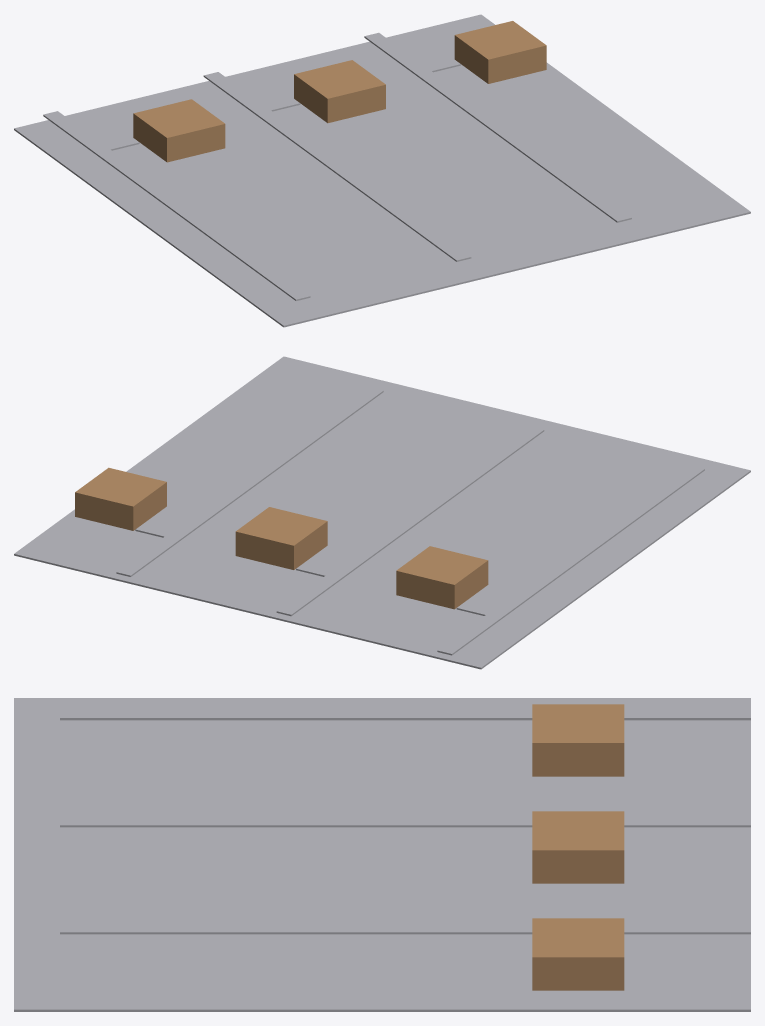
The model's file is city_c03_03.glb.
The picture shows the model from 3 angles, top to bottom: view 1: azimuth 30°, elevation 25°; view 2: azimuth 150°, elevation 25°; view 3: azimuth 270°, elevation 25°; orthographic projection. The views are drawn at different scales.
Visible parts, largest first — view 1: terrain_east_proxy__c03_03, building_079__c03_03, building_077__c03_03, building_078__c03_03, road_east_3__c03_03, road_east_2__c03_03, road_east_4__c03_03; view 2: terrain_east_proxy__c03_03, building_079__c03_03, building_078__c03_03, building_077__c03_03, road_east_3__c03_03, road_east_2__c03_03, road_east_4__c03_03; view 3: terrain_east_proxy__c03_03, road_east_3__c03_03, road_east_4__c03_03, road_east_2__c03_03, building_077__c03_03, building_078__c03_03, building_079__c03_03.
Part boxes in pixels (x1,y1,x2,y2): terrain_east_proxy__c03_03: [14, 14, 750, 327]; building_079__c03_03: [133, 99, 225, 162]; building_077__c03_03: [454, 21, 546, 83]; building_078__c03_03: [294, 60, 385, 123]; road_east_3__c03_03: [203, 72, 471, 261]; road_east_2__c03_03: [364, 32, 631, 222]; road_east_4__c03_03: [43, 111, 310, 300]; terrain_east_proxy__c03_03: [14, 356, 750, 669]; building_079__c03_03: [396, 546, 488, 609]; building_078__c03_03: [235, 507, 327, 569]; building_077__c03_03: [75, 467, 166, 530]; road_east_3__c03_03: [276, 426, 544, 616]; road_east_2__c03_03: [116, 387, 383, 576]; road_east_4__c03_03: [437, 465, 704, 655]; terrain_east_proxy__c03_03: [14, 698, 750, 1011]; road_east_3__c03_03: [60, 815, 750, 827]; road_east_4__c03_03: [60, 708, 750, 720]; road_east_2__c03_03: [60, 922, 750, 934]; building_077__c03_03: [532, 918, 624, 990]; building_078__c03_03: [532, 811, 624, 883]; building_079__c03_03: [532, 704, 624, 776].
Size of the model in its own units: 128 by 8.6 by 128.
